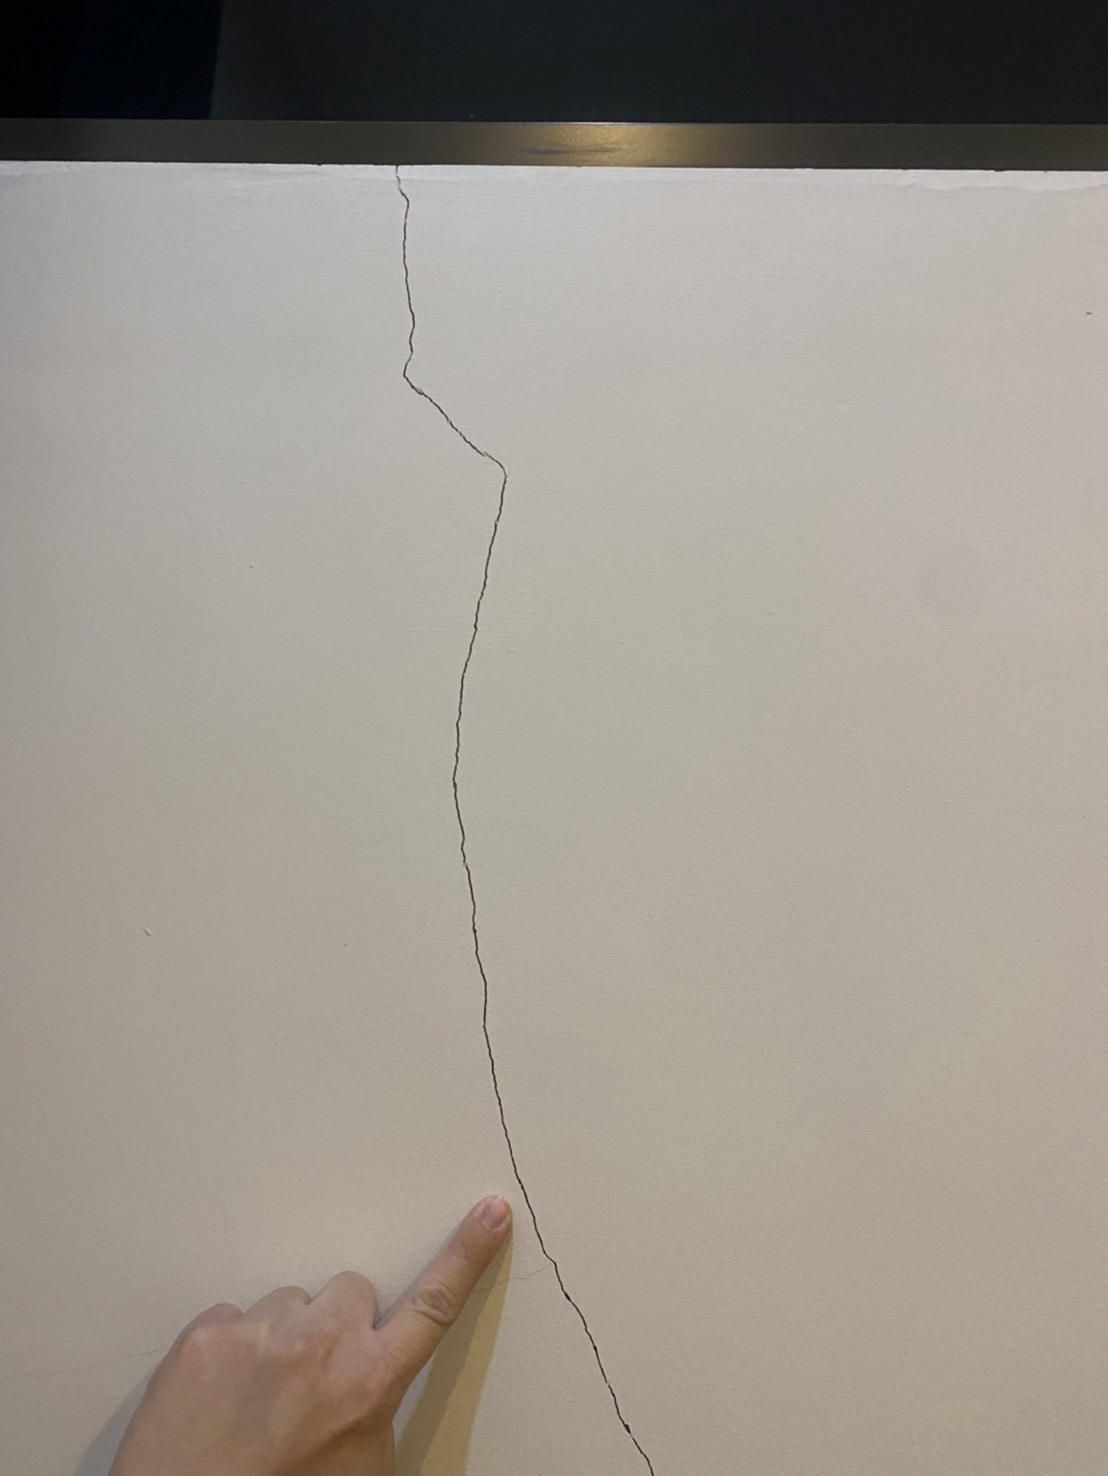Low: (365, 158, 694, 1476)
